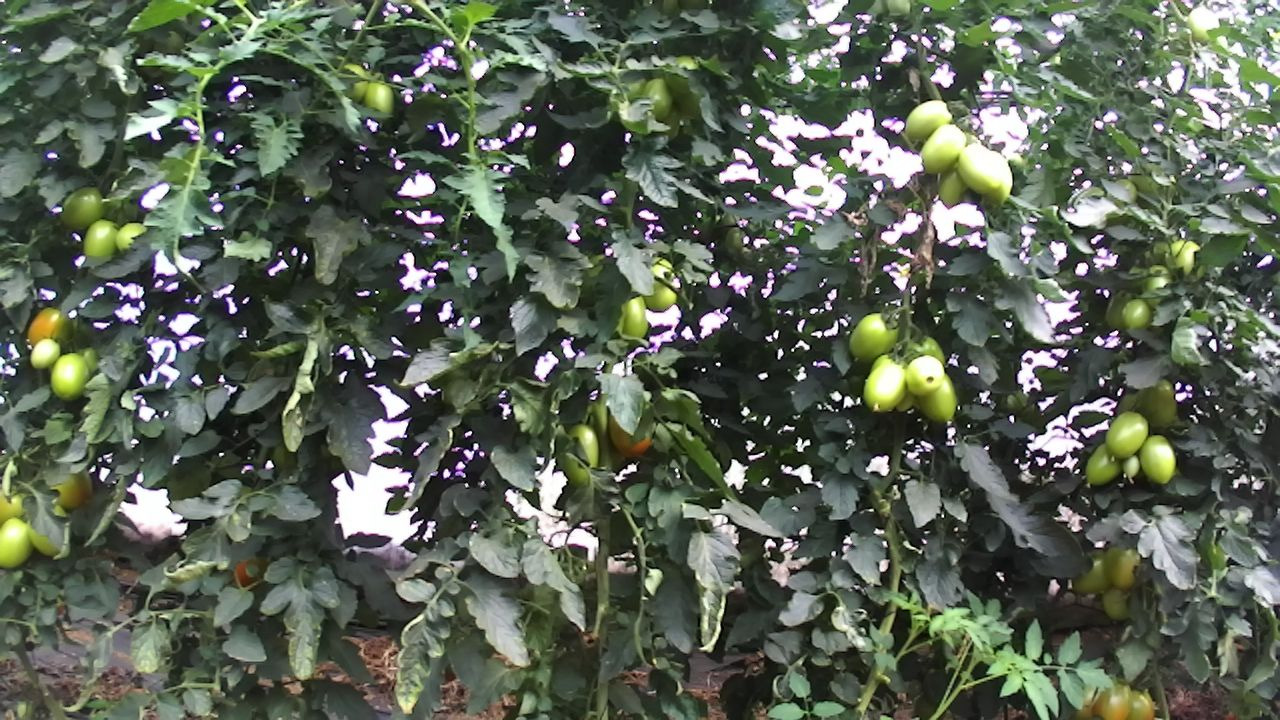tomato: (845, 308, 902, 366), (859, 352, 907, 415), (559, 417, 602, 487), (1133, 373, 1181, 434), (25, 298, 78, 352), (956, 142, 1006, 196), (1067, 546, 1116, 600), (920, 122, 967, 175), (1103, 409, 1151, 460), (46, 350, 91, 404), (1100, 542, 1144, 595), (1136, 432, 1178, 486), (57, 184, 106, 230), (78, 214, 126, 260), (902, 98, 954, 139), (1089, 675, 1135, 720), (901, 352, 946, 397), (0, 515, 34, 570), (1082, 441, 1122, 487), (1098, 579, 1137, 626), (932, 167, 969, 211), (1124, 683, 1159, 720), (1120, 296, 1152, 333), (28, 336, 60, 370), (1119, 452, 1141, 481)
